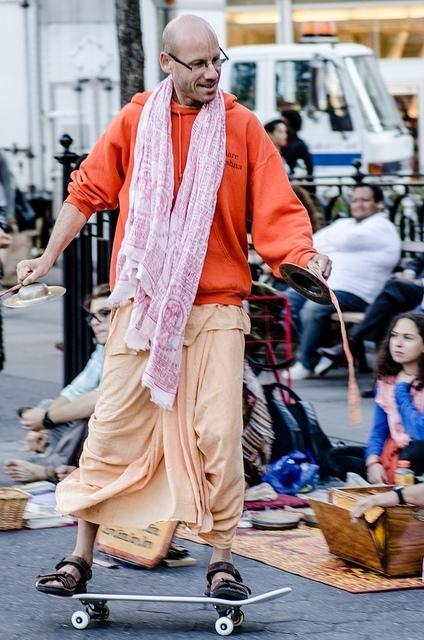truck: (220, 43, 418, 176)
